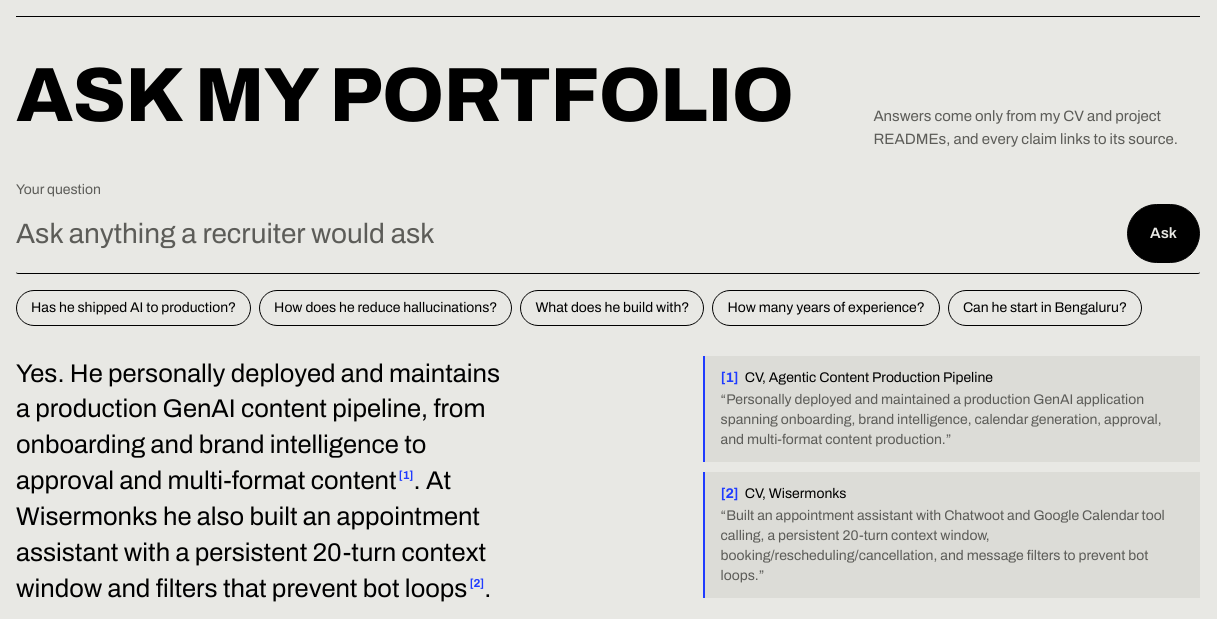
Test: Ask my portfolio › cancels an older ask when a newer one arrives
In the field labelled "Your question": coordinates (567, 233) [16,204,1117,263], type "Does he know RAG?"
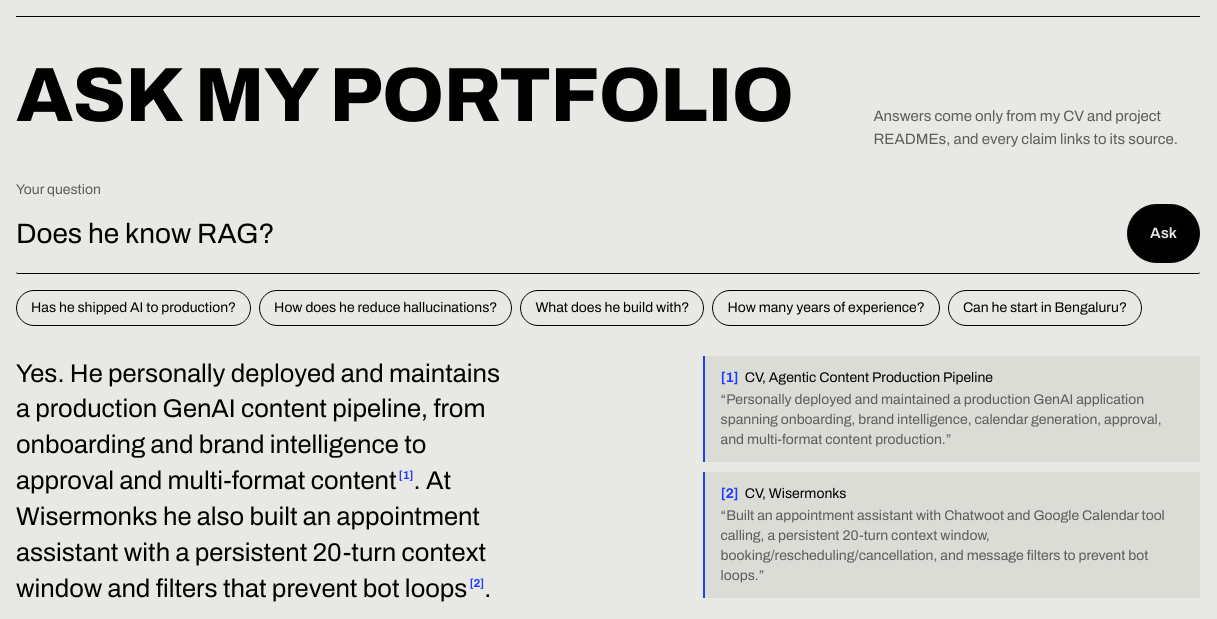
Click the button "Ask": coordinates (1164, 233) [1127,204,1200,263]
Wait 48 ms
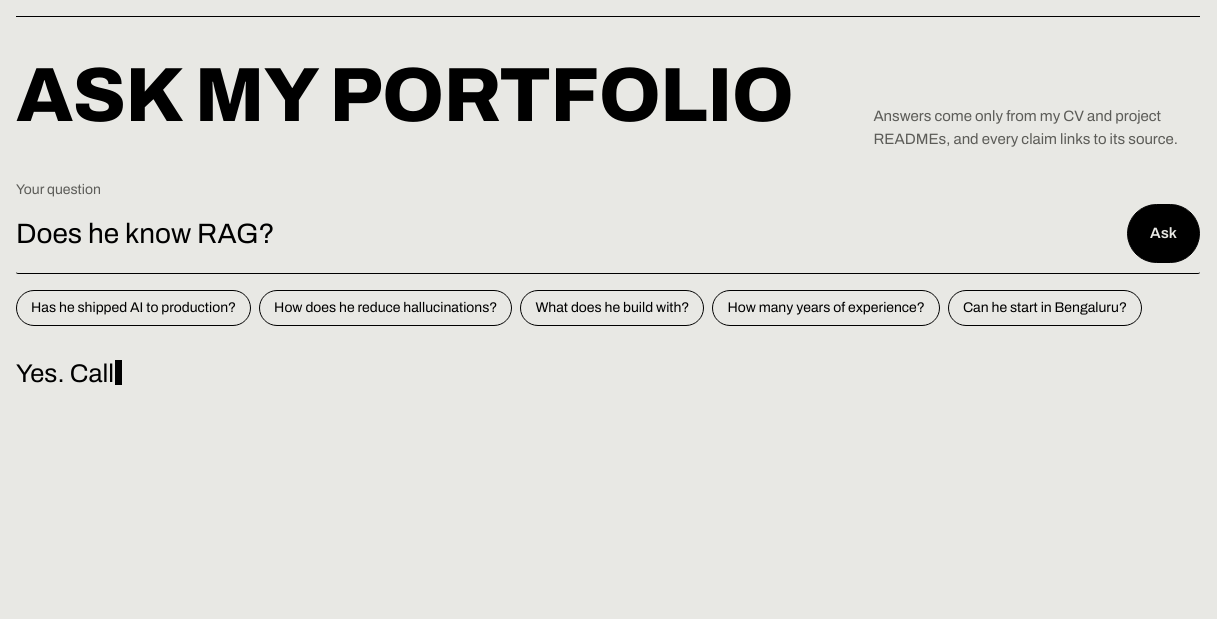
Replace the text in the field labelled "Your question" with "Which degree does he have?": coordinates (567, 233) [16,204,1117,263]
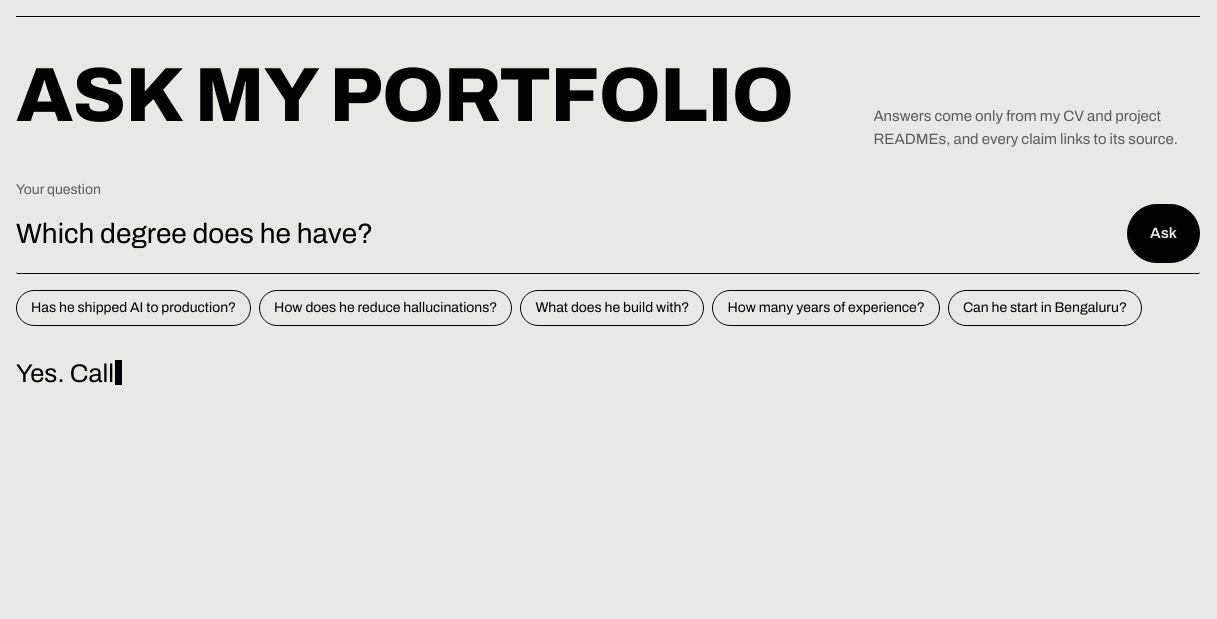
Click the button "Ask": coordinates (1164, 233) [1127,204,1200,263]
Wait 5000 ms
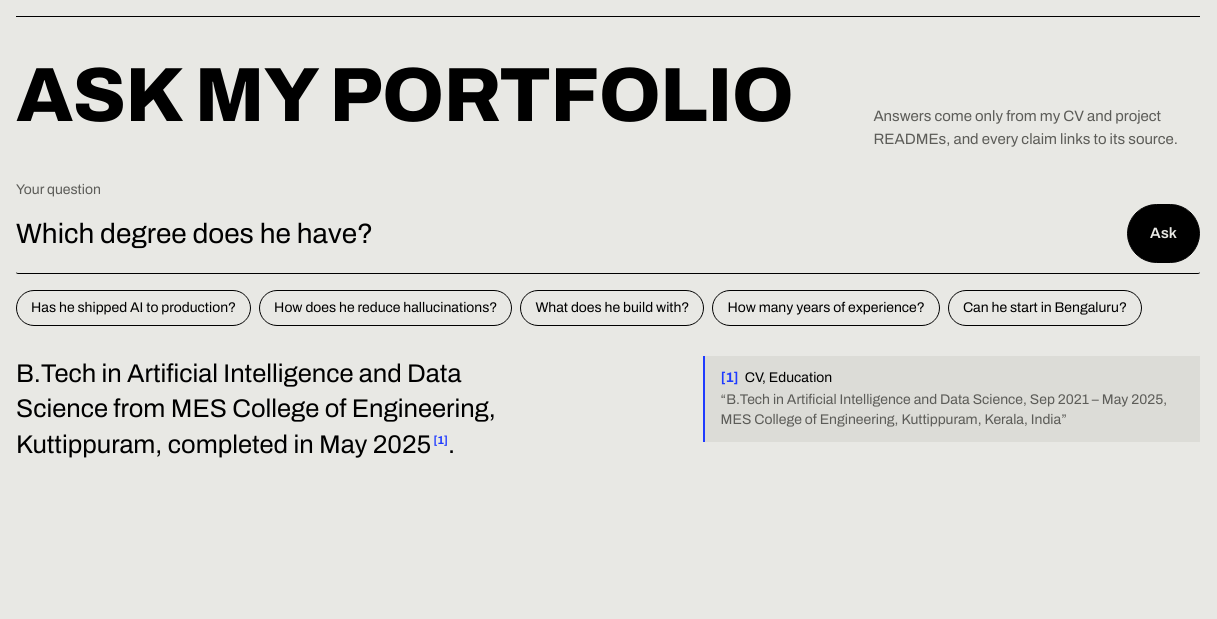
Check: the element with test id "ask-answer" shows "B.Tech in Artificial Intelligence and Data Science from MES College of Engineering, Kuttippuram, completed in May 2025[1].", box [16,356,515,476]
Check: the number of list items is 1, box [703,356,1200,442]
Check: the list item shows "B.Tech in Artificial Intelligence and Data Science, Sep 2021 – May 2025, MES College of Engineering, Kuttippuram, Kerala, India", box [721,392,1167,427]
